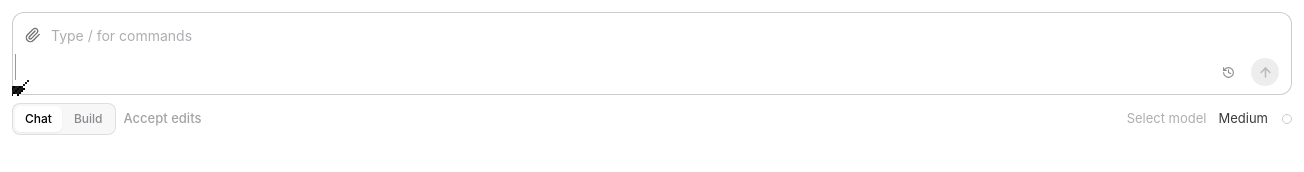
Test: Composer slash menu › partial text completes instead of sending
Step 1. Type "/di" into the text box named "Message composer" → point(669, 36), box [47, 13, 1291, 58]
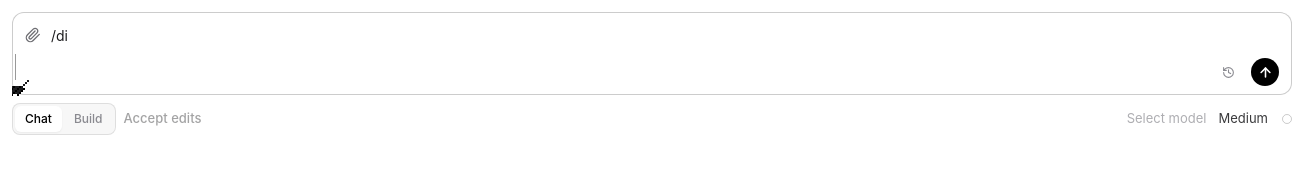
Step 2. Press Enter in the text box named "Message composer", box [47, 13, 1291, 58]
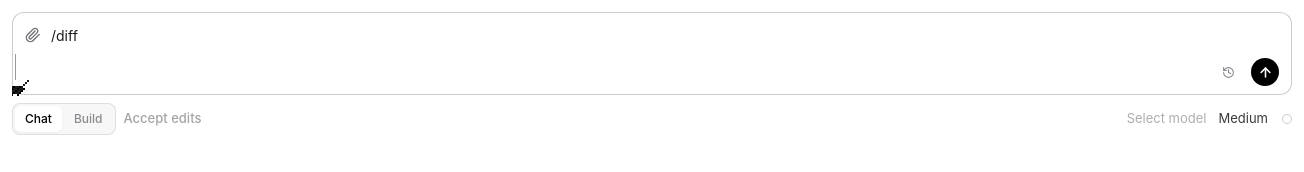
Check: the text box named "Message composer" holds "/diff ", box [47, 13, 1291, 58]
